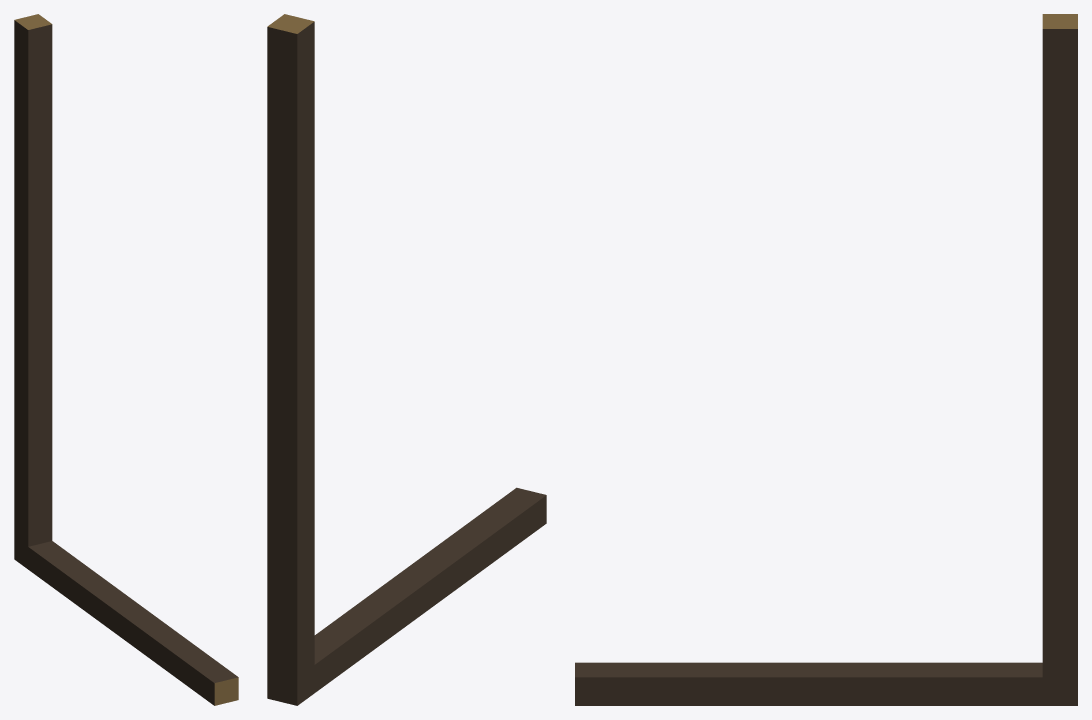
Rendered from Beam_2B_4mx6m.fbx.
3 views of the same model, side by side, from view 1: azimuth 30°, elevation 25°; view 2: azimuth 150°, elevation 25°; view 3: azimuth 270°, elevation 25° (orthographic). The views are drawn at different scales.
Visible parts, largest first — view 1: pCube930; view 2: pCube930; view 3: pCube930.
Boxes of the visible parts, x1,y1,x2,y2 form: pCube930: [14, 14, 238, 705]; pCube930: [267, 14, 546, 705]; pCube930: [575, 14, 1077, 705].
Size of the model in its own units: 30 by 638 by 429.
